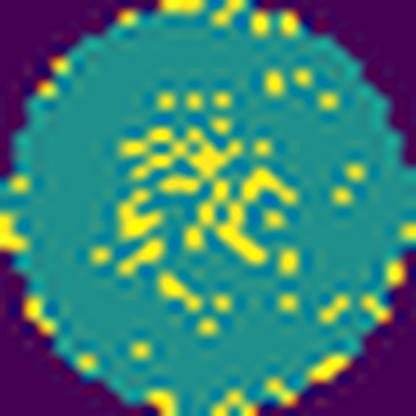Center: (117, 125, 305, 309)
